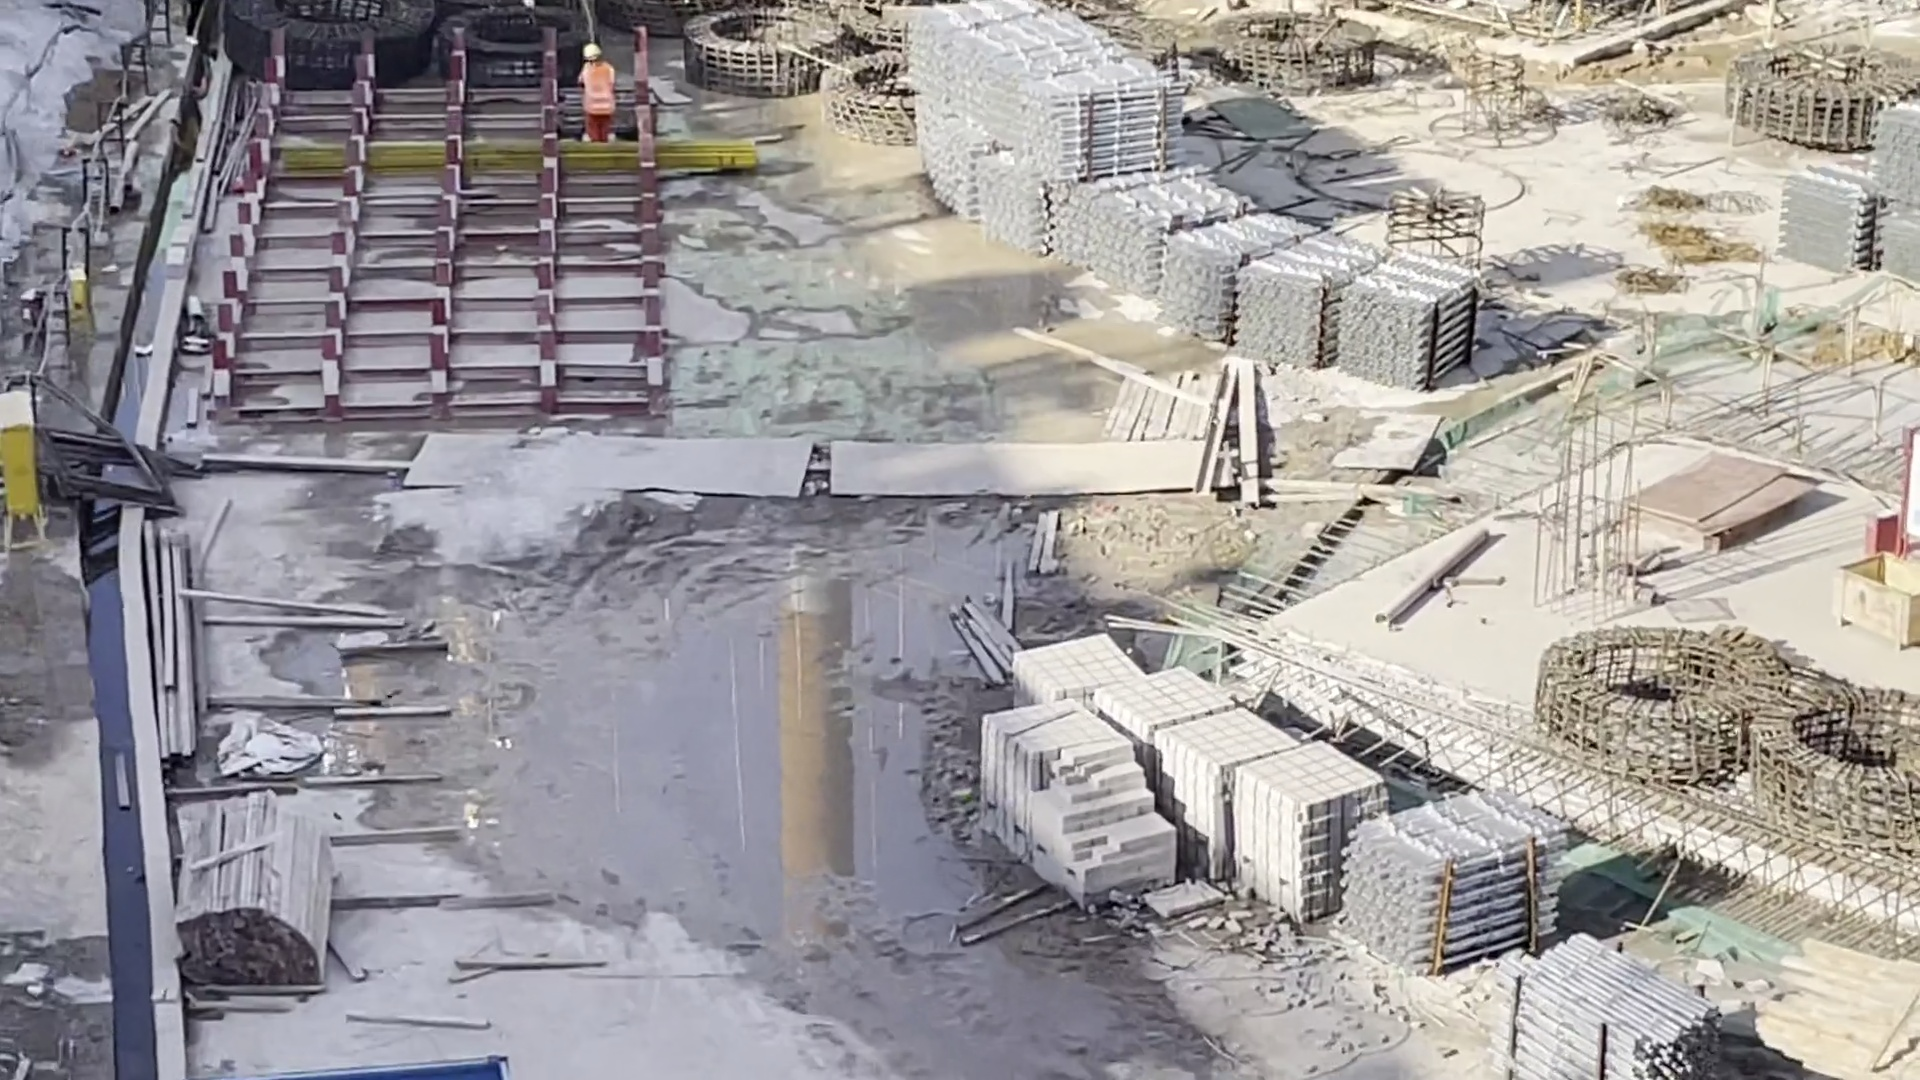board: (1640, 461, 1790, 541)
brick: (993, 651, 1347, 915)
ebox: (1, 389, 36, 533)
helmet: (583, 45, 601, 60)
person: (578, 46, 615, 145)
scaffold: (911, 1, 1190, 249), (1166, 219, 1481, 395), (1355, 793, 1566, 969), (1493, 935, 1722, 1080), (1096, 181, 1248, 293), (1782, 148, 1883, 268), (1877, 96, 1920, 275)
vest: (585, 61, 617, 116)
wood: (183, 807, 325, 999)
